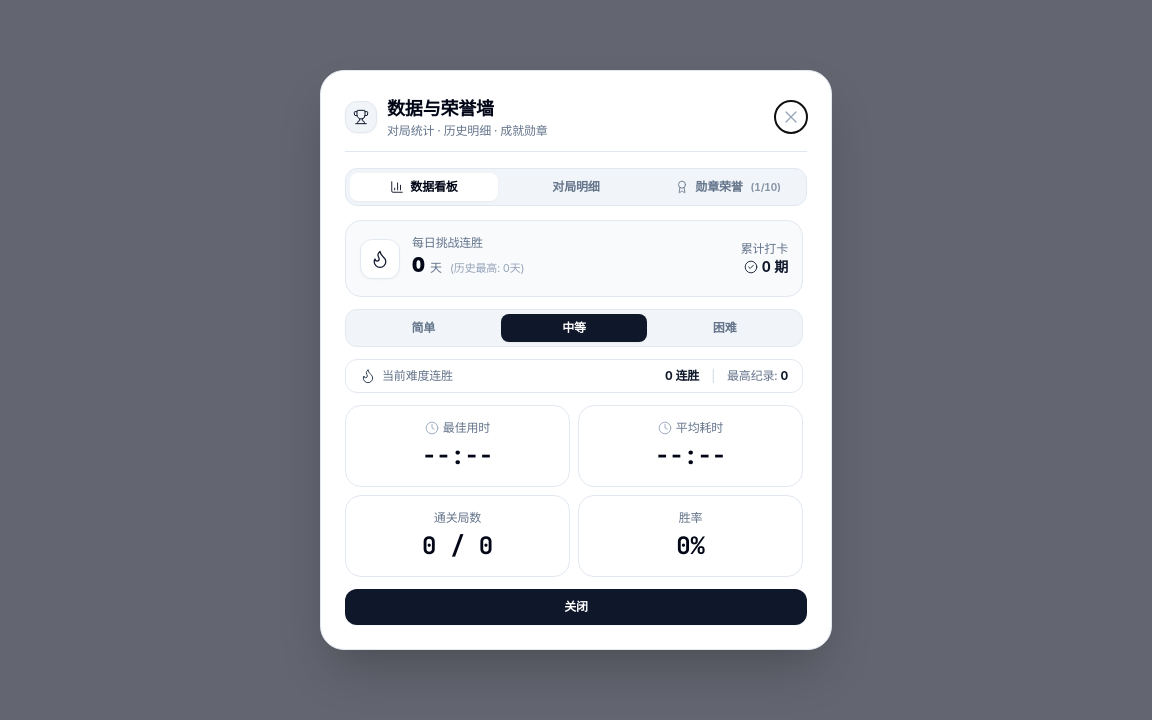
Phase 3: Achievements & Statistics Suite › <StatsModal /> Dual-Tab Component › switches to achievements tab and renders badge cards with progress
Switch to achievements tab
Step 1. Click the text "勋章荣誉" → (719, 187), box 695,179 -> 743,195
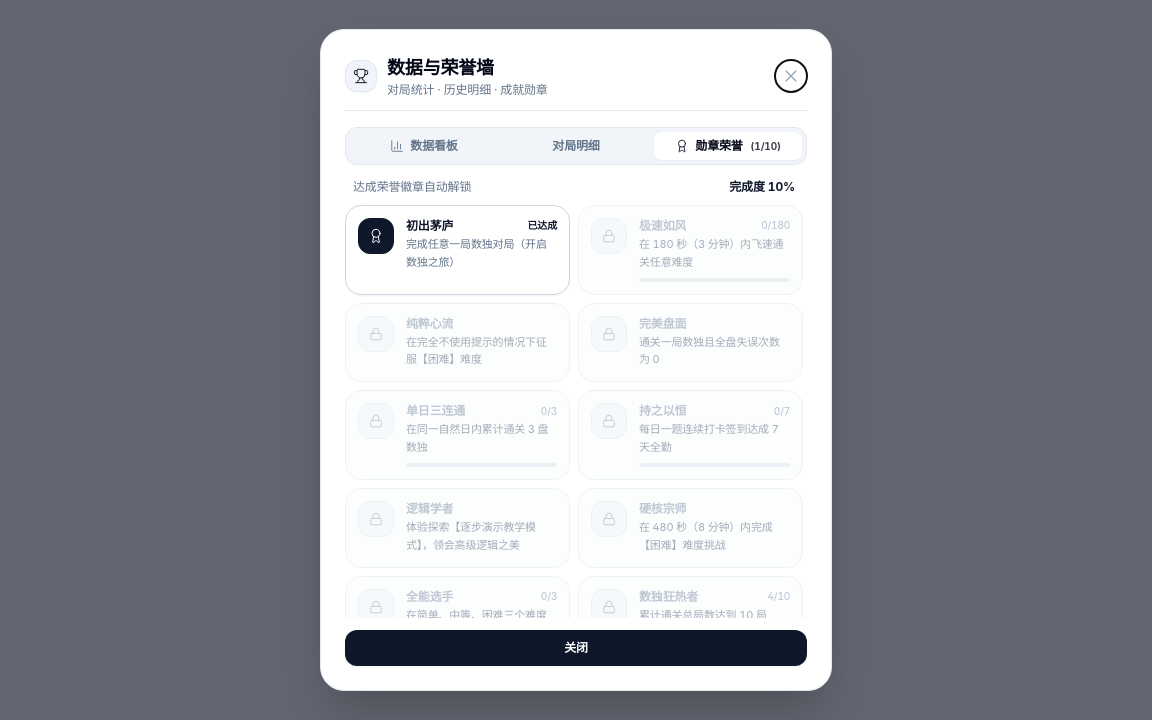
Now the text "达成荣誉徽章自动解锁" is shown, box 353,179 -> 471,195
Now the heading "初出茅庐" is shown, box 406,218 -> 453,234
Now the text "已达成" is shown, box 528,218 -> 557,233
